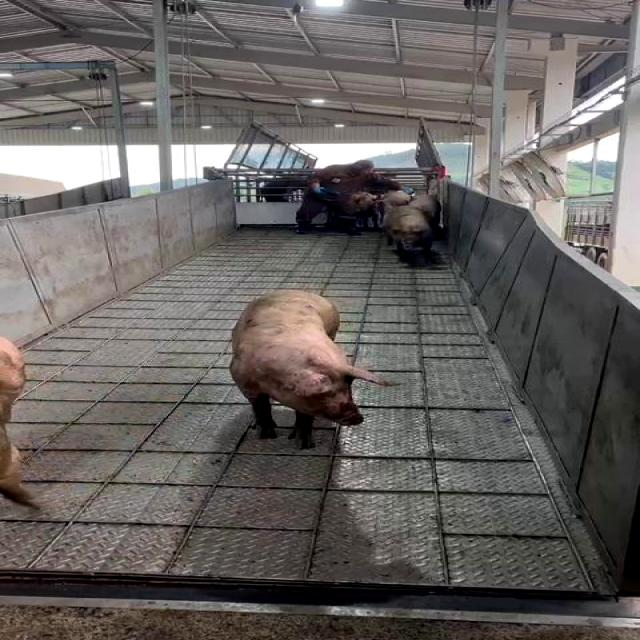pig: (231, 291, 389, 446), (1, 423, 36, 507), (385, 206, 433, 260), (1, 337, 24, 433)
